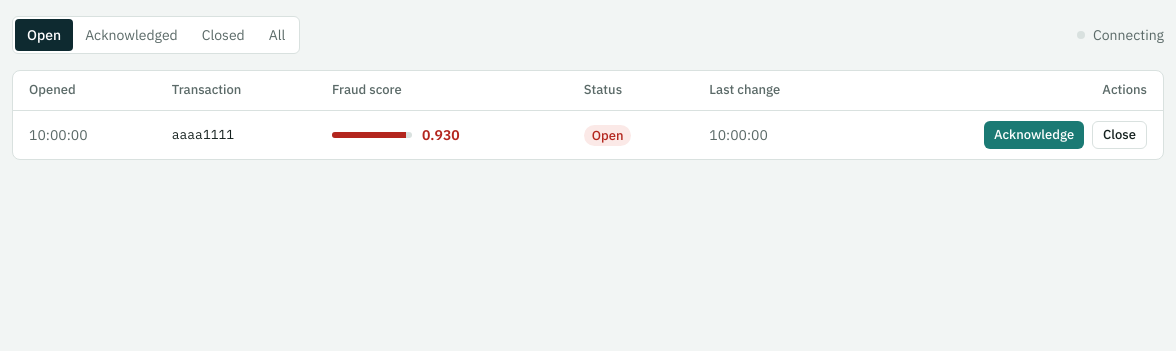
Test: AlertsBoard › acknowledges an open alert and drops it from the open view
The image size is (1176, 351).
Click the button with aria-label "Acknowledge alert on aaaa1111".
click(1034, 135)  # box [984,121,1084,149]
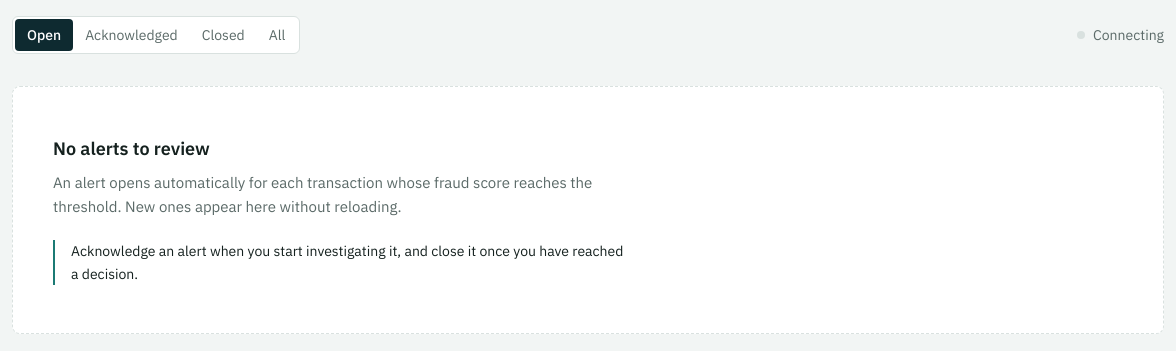
Check: the text "aaaa1111" is gone
Check: the heading "No alerts to review" is shown, box [53,137,210,160]
